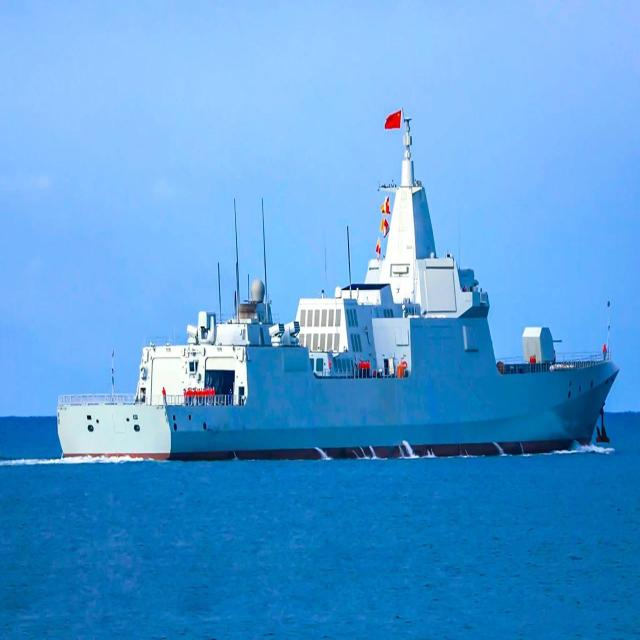Destroyer-Renhai-Class-055-CHI: (54, 105, 624, 463)
